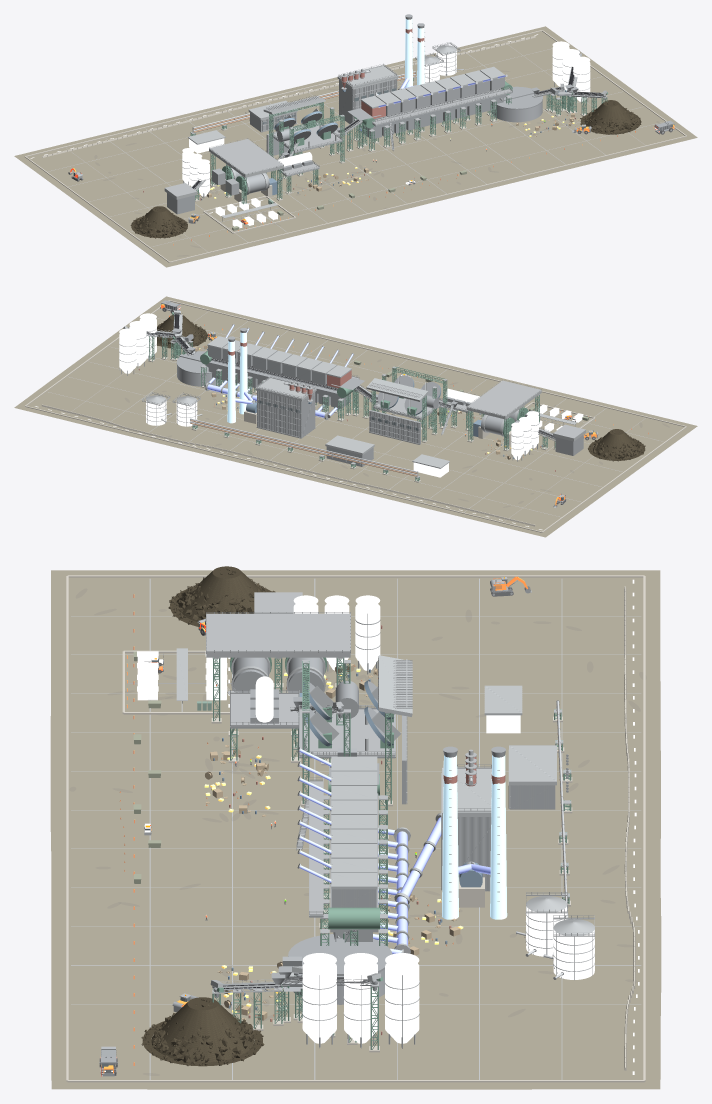
File: pelletizing.glb
3 renders of one model, top to bottom at view 1: azimuth 30°, elevation 25°; view 2: azimuth 150°, elevation 25°; view 3: azimuth 270°, elevation 25°, orthographic. The views are drawn at different scales.
Visible parts, largest first — view 1: structure/mat_8b8166_53, galv/galv, structure/green, structure/concrete, structure/steelD, structure/roof, structure/seam, structure/clad, structure/silo, structure/oreRich, scree/oreRich, structure/white (+6 smaller); view 2: structure/mat_8b8166_53, galv/galv, structure/seam, structure/clad, structure/roof, structure/green, structure/concrete, structure/steelD, structure/silo, structure/oreRich, structure/white, props/conc2 (+9 smaller); view 3: structure/mat_8b8166_53, galv/galv, structure/roof, structure/silo, structure/concrete, structure/seam, structure/green, structure/oreRich, structure/steelD, structure/white, structure/duct, structure/clad (+10 smaller).
Part boxes in pixels (<box>): structure/mat_8b8166_53: <box>14,26,697,267</box>; galv/galv: <box>164,23,607,221</box>; structure/green: <box>190,78,607,204</box>; structure/concrete: <box>25,30,686,262</box>; structure/steelD: <box>167,14,606,214</box>; structure/roof: <box>188,66,504,218</box>; structure/seam: <box>48,42,661,251</box>; structure/clad: <box>212,77,504,195</box>; structure/silo: <box>182,41,590,196</box>; structure/oreRich: <box>131,100,640,237</box>; scree/oreRich: <box>130,101,641,238</box>; structure/white: <box>30,34,537,213</box>; structure/mat_8b8166_53: <box>14,296,697,537</box>; galv/galv: <box>119,310,585,478</box>; structure/seam: <box>48,312,662,521</box>; structure/clad: <box>208,346,538,466</box>; structure/roof: <box>207,336,576,468</box>; structure/green: <box>149,312,555,481</box>; structure/concrete: <box>25,300,686,532</box>; structure/steelD: <box>146,314,583,473</box>; structure/silo: <box>119,313,538,459</box>; structure/oreRich: <box>157,315,645,460</box>; structure/white: <box>35,401,542,529</box>; props/conc2: <box>41,404,535,526</box>; structure/mat_8b8166_53: <box>50,570,661,1089</box>; galv/galv: <box>182,592,594,1048</box>; structure/roof: <box>176,648,556,889</box>; structure/silo: <box>293,595,419,1043</box>; structure/concrete: <box>66,575,645,1082</box>; structure/seam: <box>71,578,641,1079</box>; structure/green: <box>212,657,571,1049</box>; structure/oreRich: <box>142,566,271,1066</box>; structure/steelD: <box>213,689,568,997</box>; structure/white: <box>228,579,639,1074</box>; structure/duct: <box>299,749,490,954</box>; structure/clad: <box>331,715,555,907</box>.
Size of the model in its own units: 357 by 53.46 by 178.
Materials: 55 (11 with a texture image).
